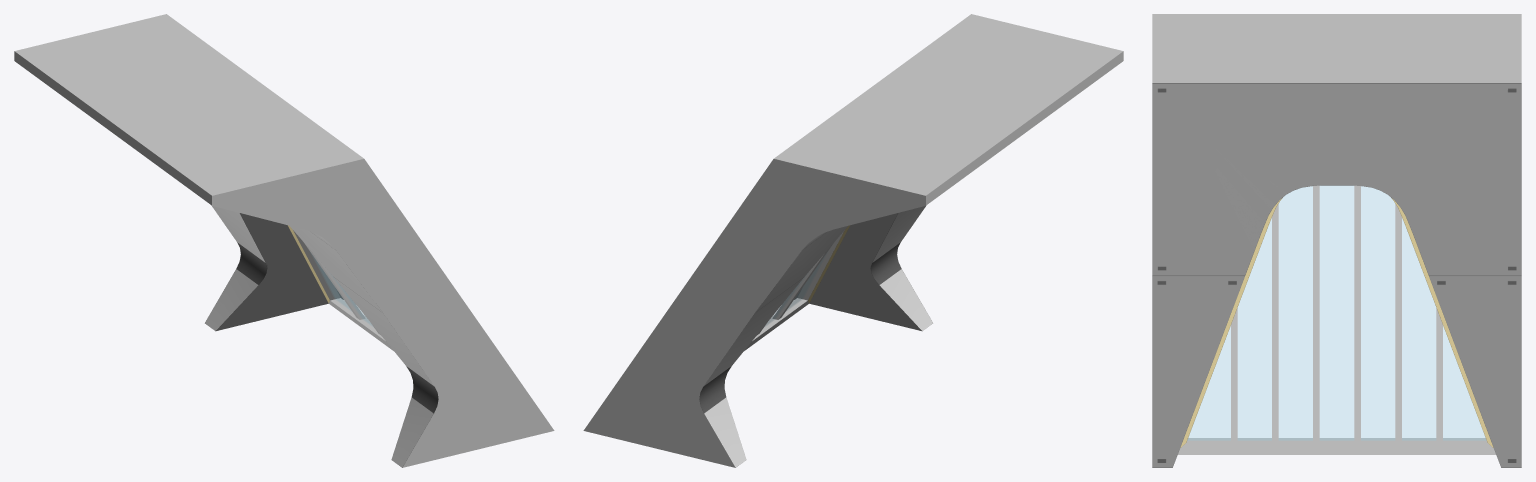
The model's file is Wall_Window_02.FBX.
3 renders of one model, left to right at view 1: azimuth 30°, elevation 25°; view 2: azimuth 150°, elevation 25°; view 3: azimuth 270°, elevation 25°, orthographic. The views are drawn at different scales.
Parts seen in each view (by area): view 1: Wall_Window_02; view 2: Wall_Window_02; view 3: Wall_Window_02.
Boxes of the visible parts, x1,y1,x2,y2 form: Wall_Window_02: (14, 14, 554, 467); Wall_Window_02: (583, 14, 1123, 467); Wall_Window_02: (1152, 14, 1521, 467).
Size of the model in its own units: 9 by 8 by 9.
